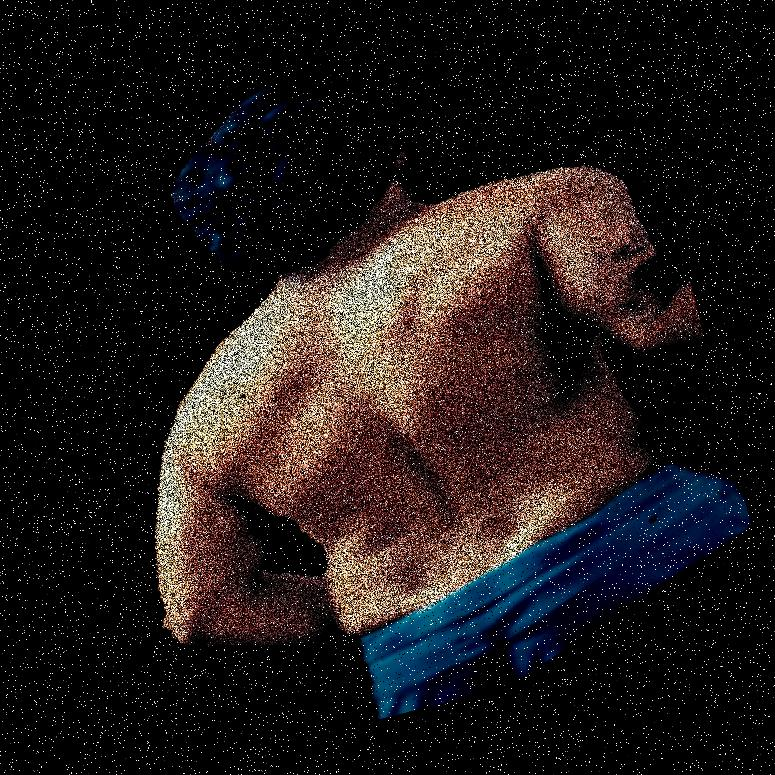Pessoa: (296, 0, 774, 774)
